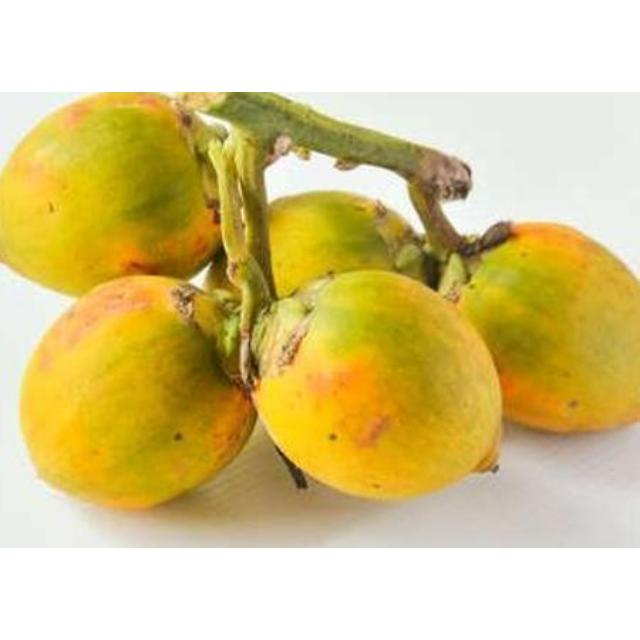good: (249, 268, 503, 504), (18, 275, 257, 513), (0, 92, 222, 300), (458, 223, 639, 436)
